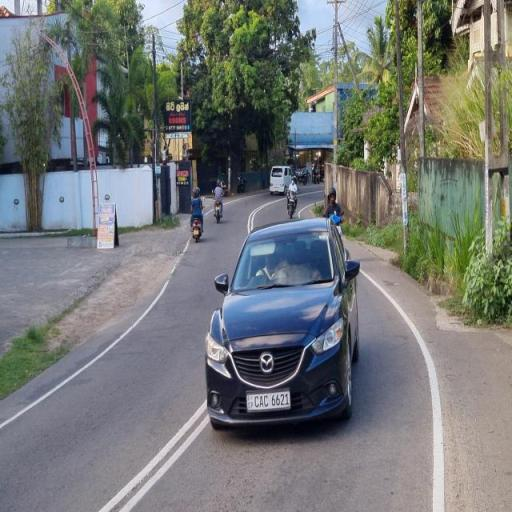double_white_line: (96, 401, 205, 512)
